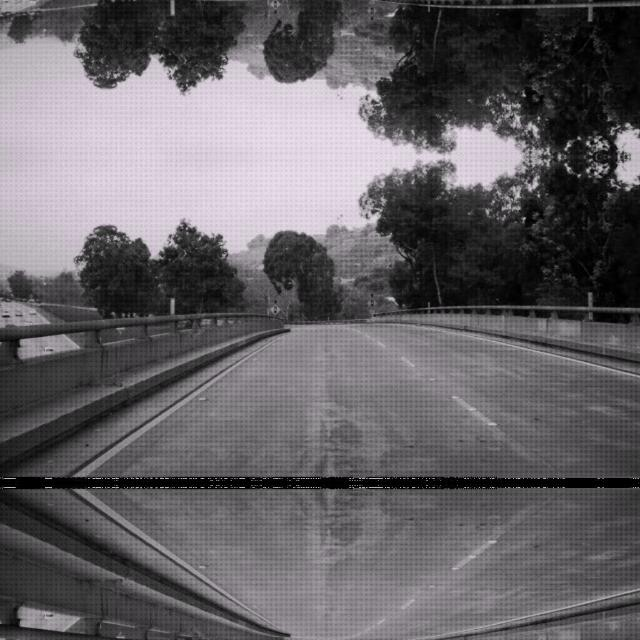signalAhead: (268, 302, 280, 314), (367, 296, 378, 308), (367, 4, 378, 16), (268, 0, 281, 10)
